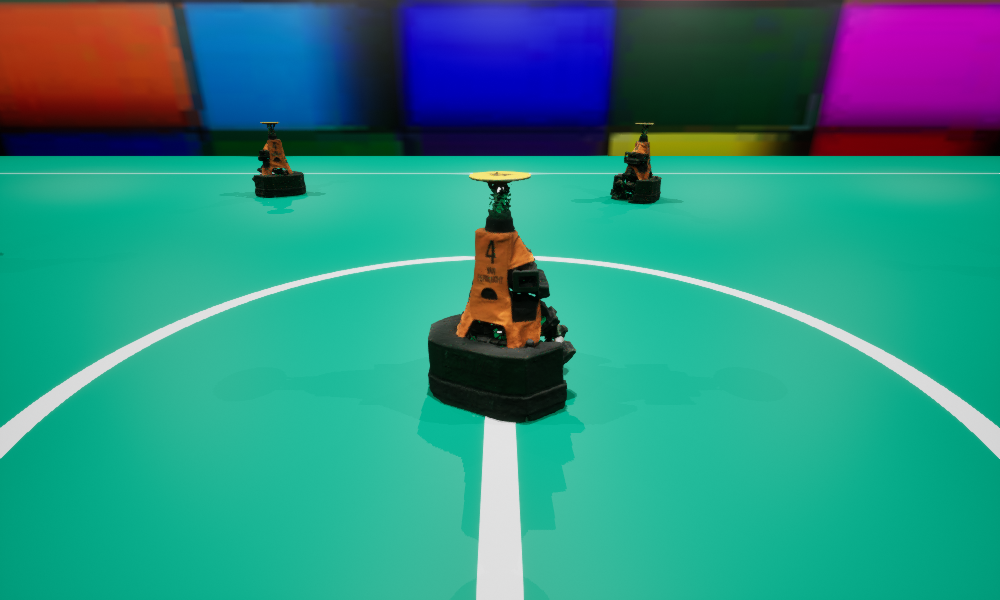o: (428, 171, 575, 422), (610, 123, 661, 202), (252, 122, 305, 197)
